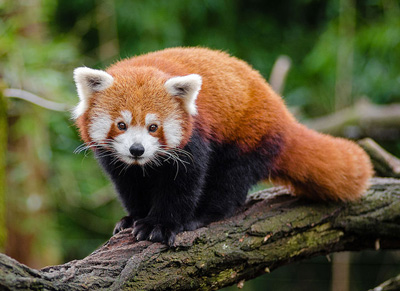red_panda: (65, 45, 374, 246)
